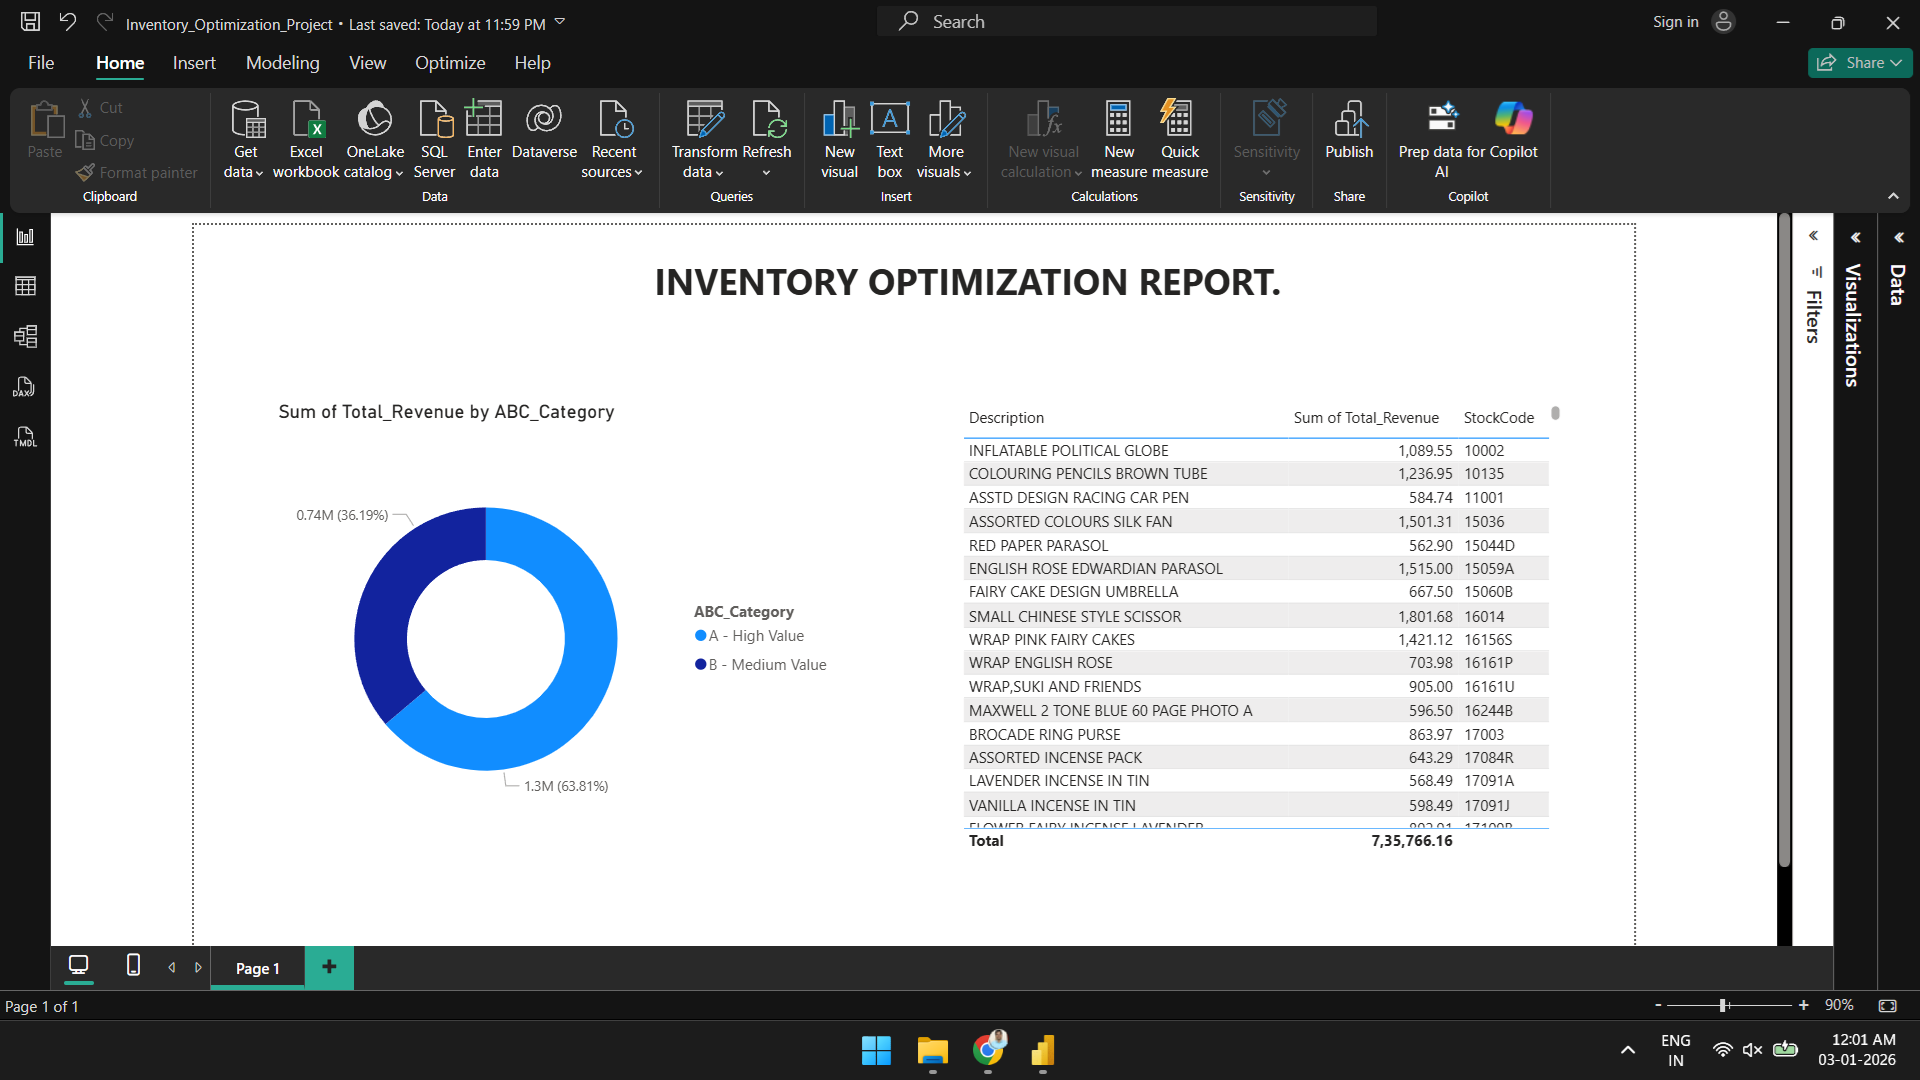

This screenshot's page, from the dashboard's own definition file:
{"tool":"powerbi","page":{"name":"Inventory Analysis","canvas":[1280,720],"ordinal":0},"visuals":[{"type":"donutChart","fields":{"Category":["final_abc_data.ABC_Category"],"Y":["Sum(final_abc_data.Total_Revenue)"]},"box":[75.5,188,456.9,341.7],"z":0},{"type":"tableEx","fields":{"Values":["Sum(final_abc_data.Total_Revenue)","final_abc_data.Description","final_abc_data.StockCode"]},"box":[639.5,188,564,341.7],"z":1},{"type":"textbox","box":[317,23.3,710.8,116.6],"z":2}]}

Visuals, with their boxes on the page's 1280x720 design canvas (x1, y1, x2, y2). These are canvas units, not pixel positions in the 1920x1080 screenshot, which may show the page scaled, cropped or inside an application window:
donutChart - final_abc_data.ABC_Category x Sum(final_abc_data.Total_Revenue): <bbox>76, 188, 532, 530</bbox>
tableEx - Sum(final_abc_data.Total_Revenue) x final_abc_data.Description: <bbox>640, 188, 1204, 530</bbox>
textbox: <bbox>317, 23, 1028, 140</bbox>
